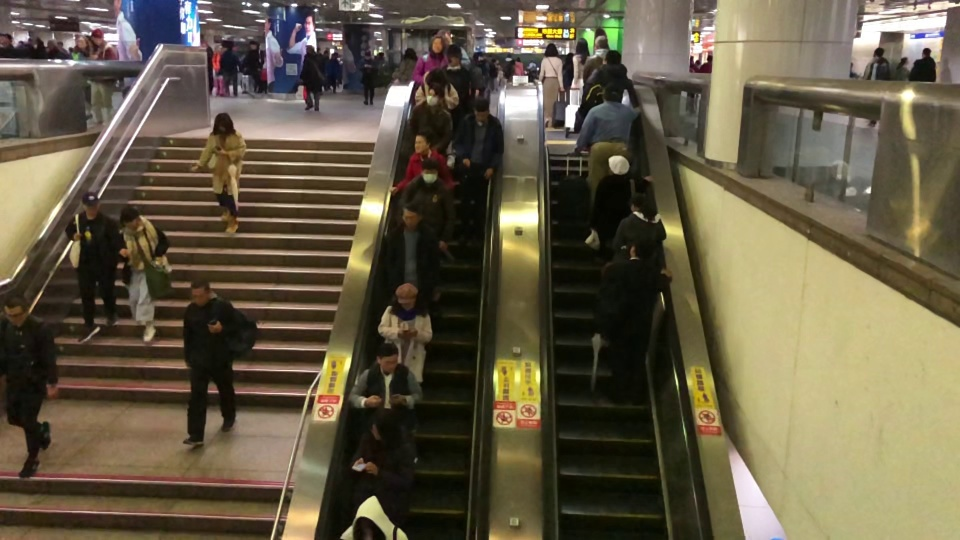person_head: (350, 493, 390, 540), (369, 408, 401, 441), (375, 339, 401, 375), (394, 280, 420, 313), (3, 295, 29, 327), (602, 152, 631, 179), (628, 188, 651, 216), (118, 204, 142, 230), (419, 158, 442, 185), (629, 236, 652, 263), (401, 200, 423, 228), (189, 278, 211, 305), (79, 191, 101, 216), (425, 83, 446, 108), (211, 112, 232, 135), (413, 129, 432, 154), (472, 95, 490, 121), (601, 81, 622, 101), (445, 44, 463, 67), (601, 48, 623, 64), (428, 35, 445, 54), (593, 34, 609, 51), (89, 27, 104, 45), (573, 38, 589, 54), (543, 43, 559, 57), (75, 34, 88, 49), (404, 47, 417, 61), (305, 42, 315, 55), (874, 47, 885, 58), (899, 56, 910, 67), (921, 47, 931, 58), (248, 39, 258, 49), (364, 50, 372, 61), (225, 41, 234, 50)
person_vbox: (600, 239, 672, 404), (181, 277, 244, 446), (0, 295, 58, 478), (574, 83, 641, 213), (375, 281, 432, 432), (65, 191, 121, 343), (347, 411, 415, 527), (454, 95, 503, 245), (116, 205, 169, 343), (587, 154, 653, 261), (349, 342, 423, 436), (191, 111, 246, 234), (384, 201, 440, 315), (397, 157, 454, 251), (573, 49, 632, 134), (389, 127, 455, 197), (400, 84, 454, 161), (610, 191, 666, 261), (338, 494, 411, 540), (87, 28, 118, 125), (441, 45, 471, 126), (538, 43, 564, 127), (297, 44, 325, 112), (414, 68, 459, 110), (412, 35, 448, 85), (569, 36, 592, 105), (582, 34, 610, 82), (218, 42, 242, 96), (908, 48, 937, 82), (246, 39, 264, 93), (360, 49, 377, 105), (864, 47, 891, 81), (392, 47, 418, 82), (892, 56, 910, 81)
